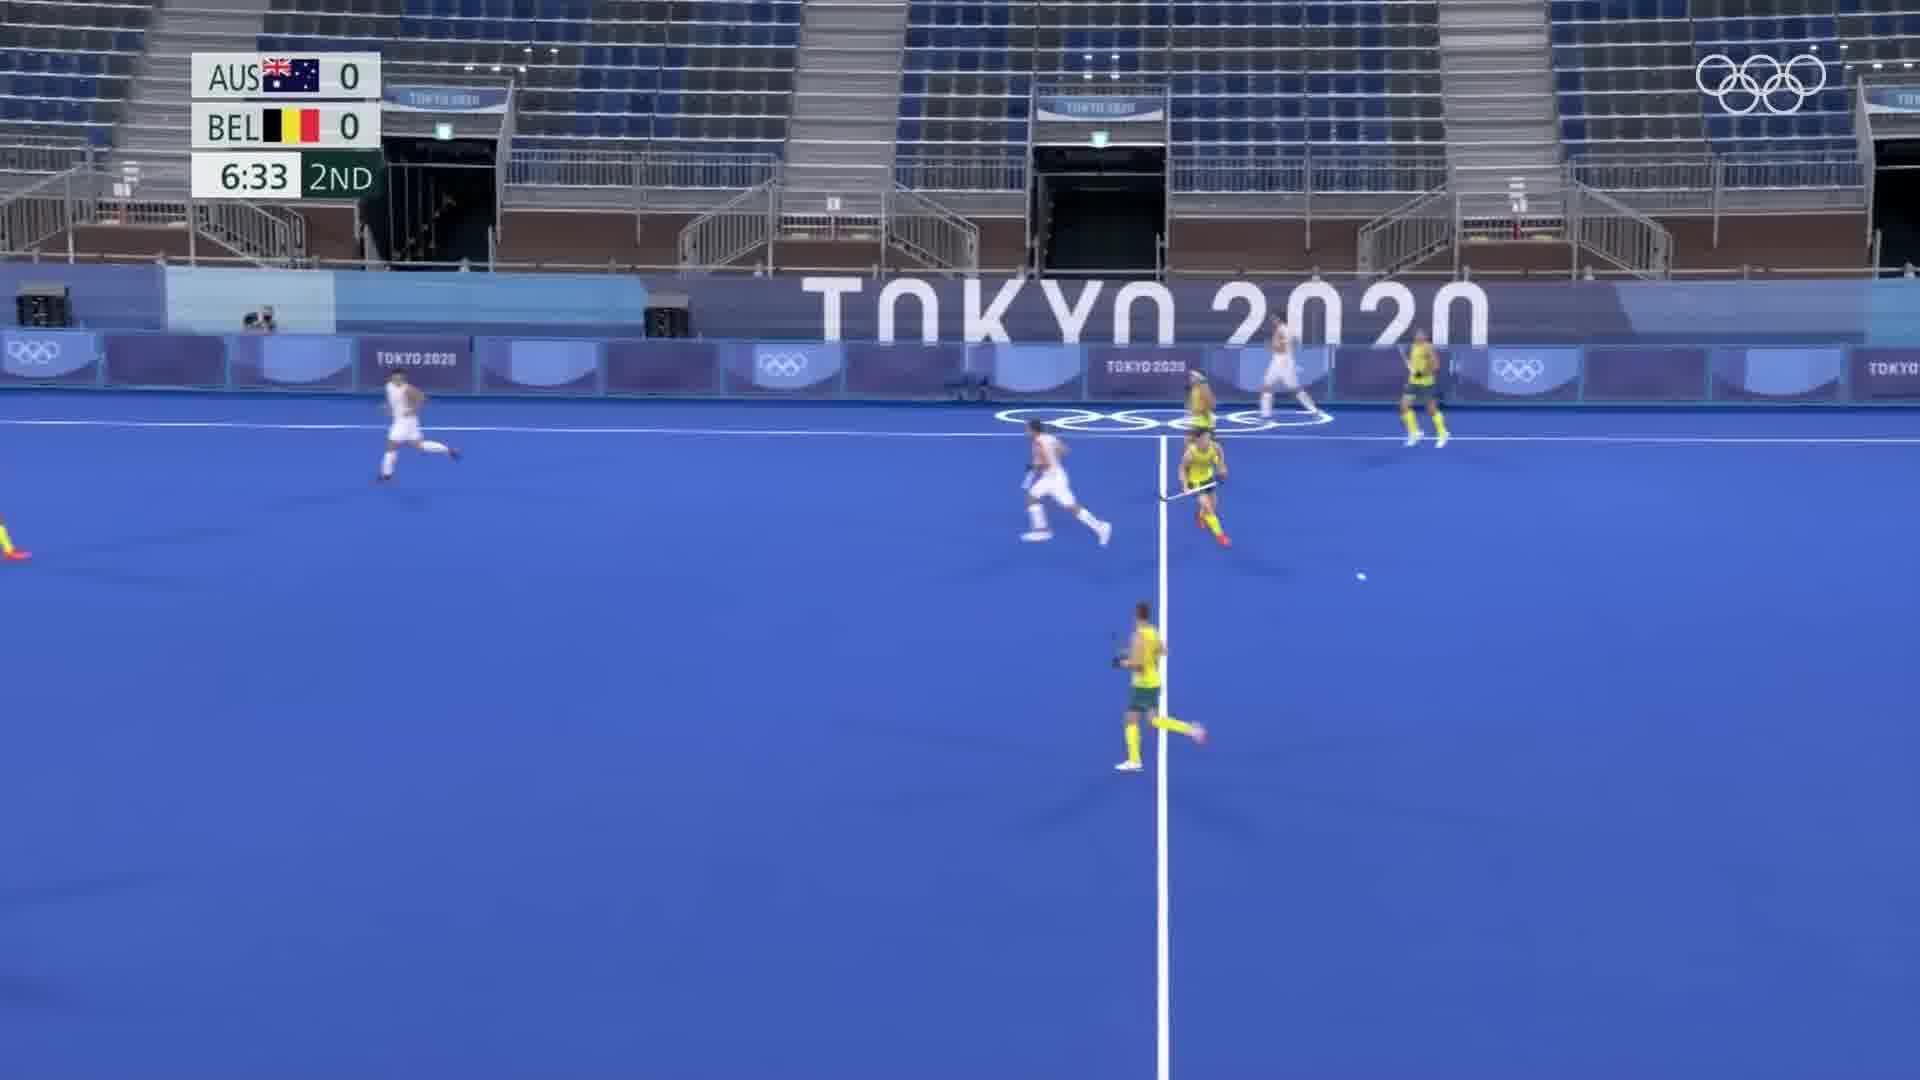ball: (1346, 563, 1375, 589)
